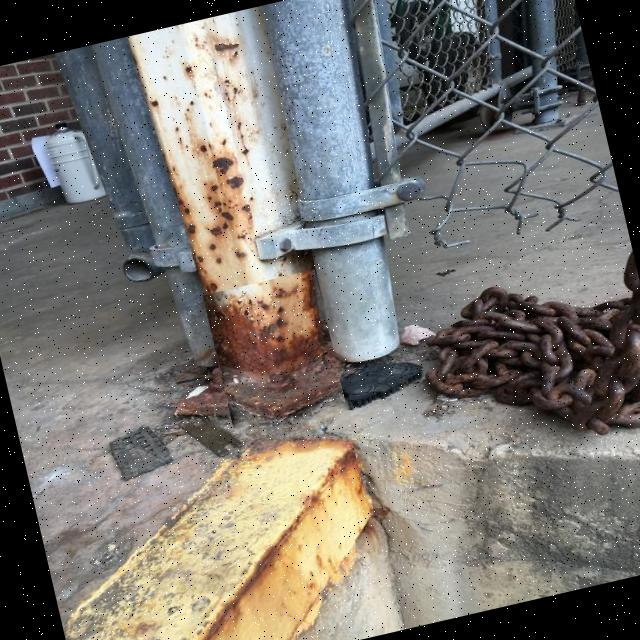Corrosion: (125, 7, 338, 396), (32, 420, 401, 640), (407, 250, 640, 475)
